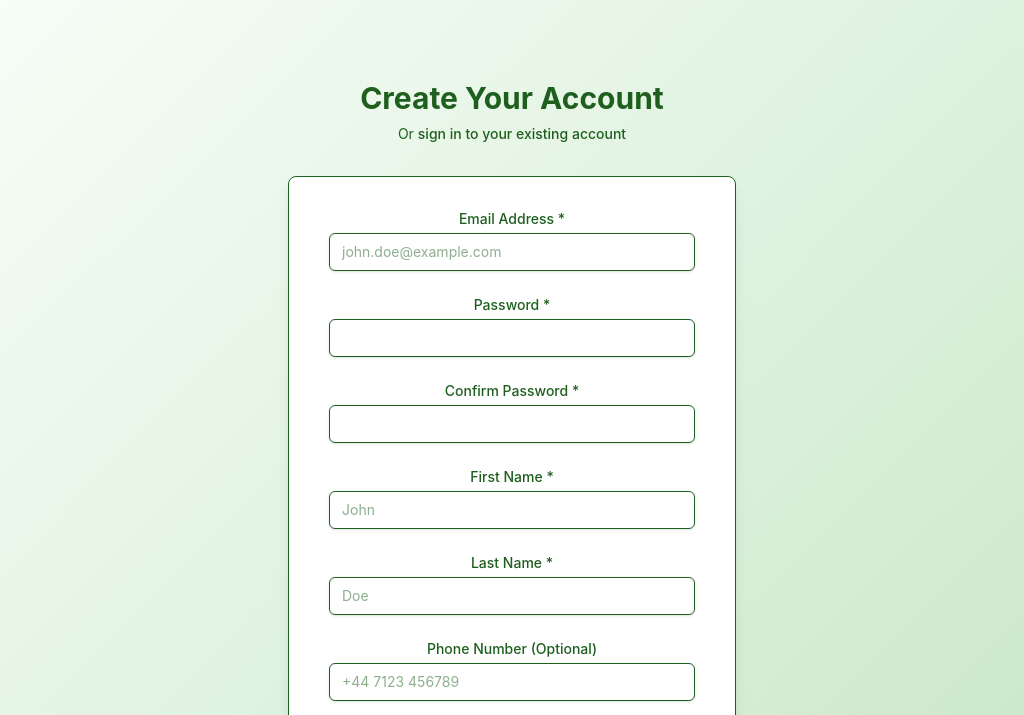
Test: RegisterPage › Form Validation › should validate email format
Type "invalid-email" into the field labelled "Email Address *".
click(512, 252); type("invalid-email")  # box x1=329 y1=233 x2=695 y2=271
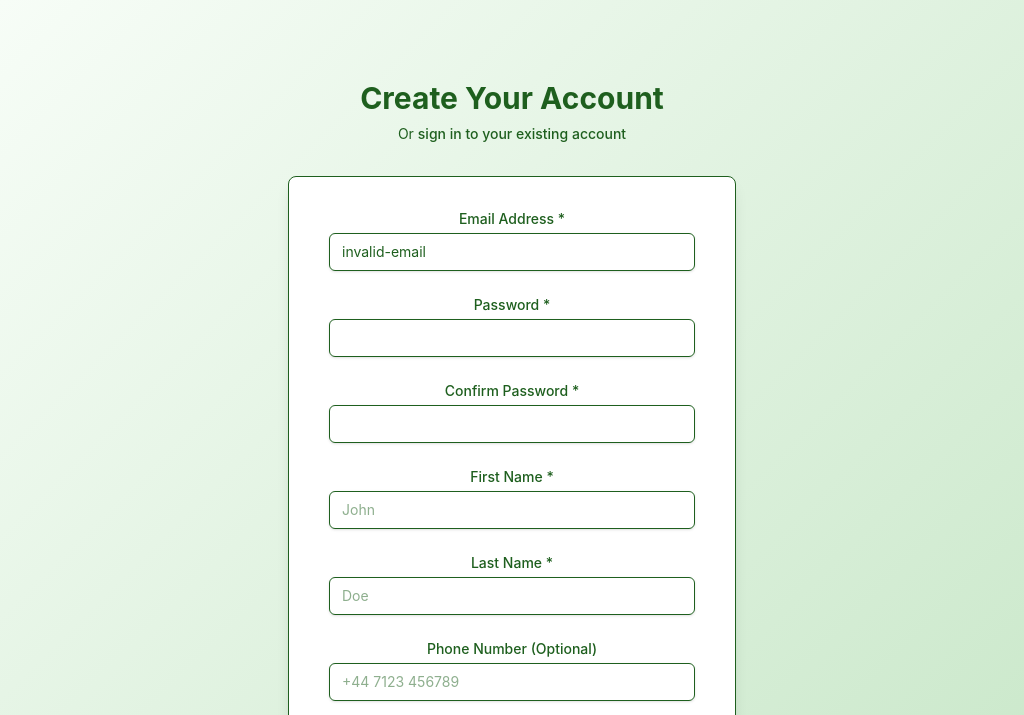
Press Tab
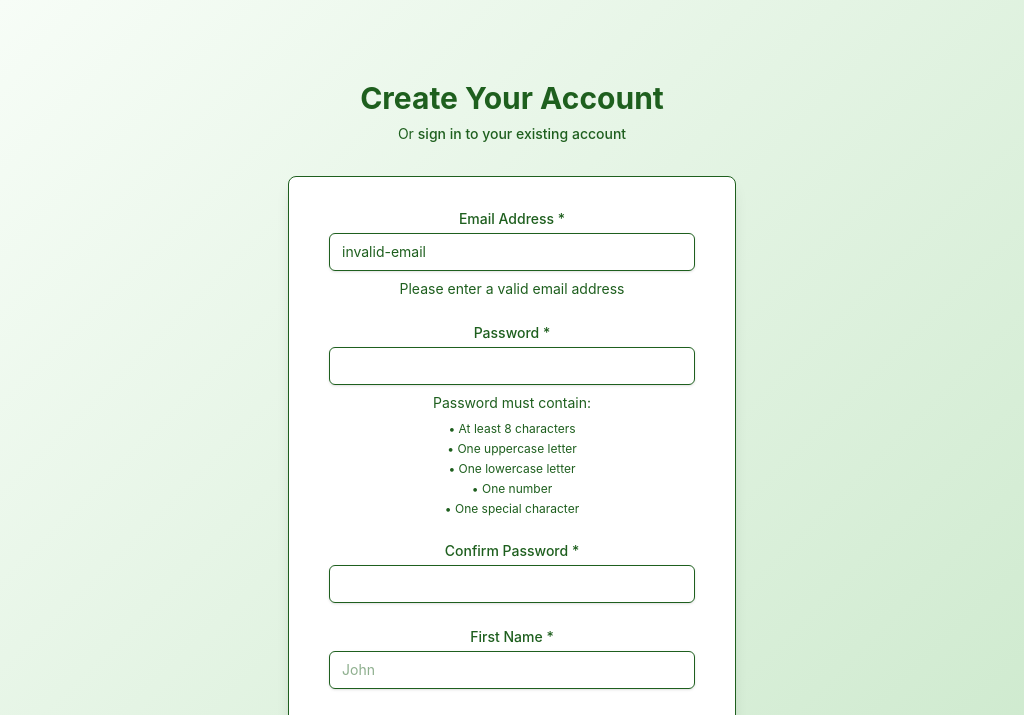
Expected: the text "Please enter a valid email address" is shown, x1=400 y1=280 x2=624 y2=297
